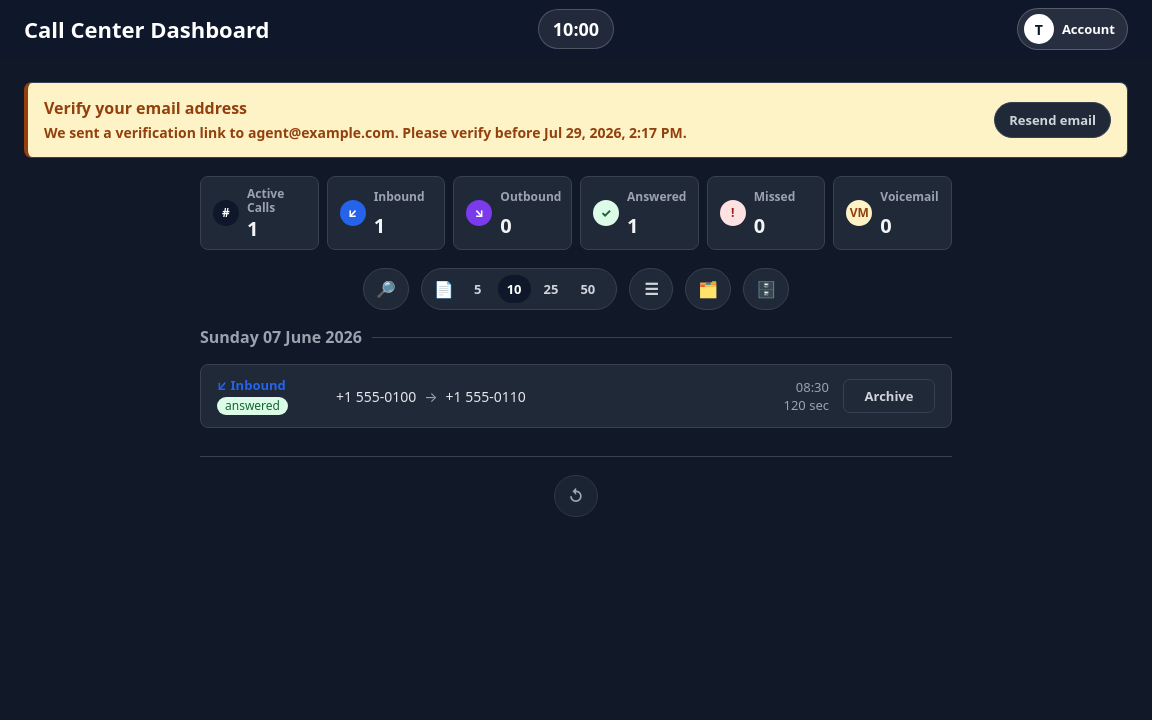
Test: App auth gate › logs out from the account drawer
Expected: the text "+1 555-0100" is shown, x1=336 y1=387 x2=416 y2=406
Click the button with aria-label "Open account settings": (1072, 29) x1=1017 y1=8 x2=1128 y2=50
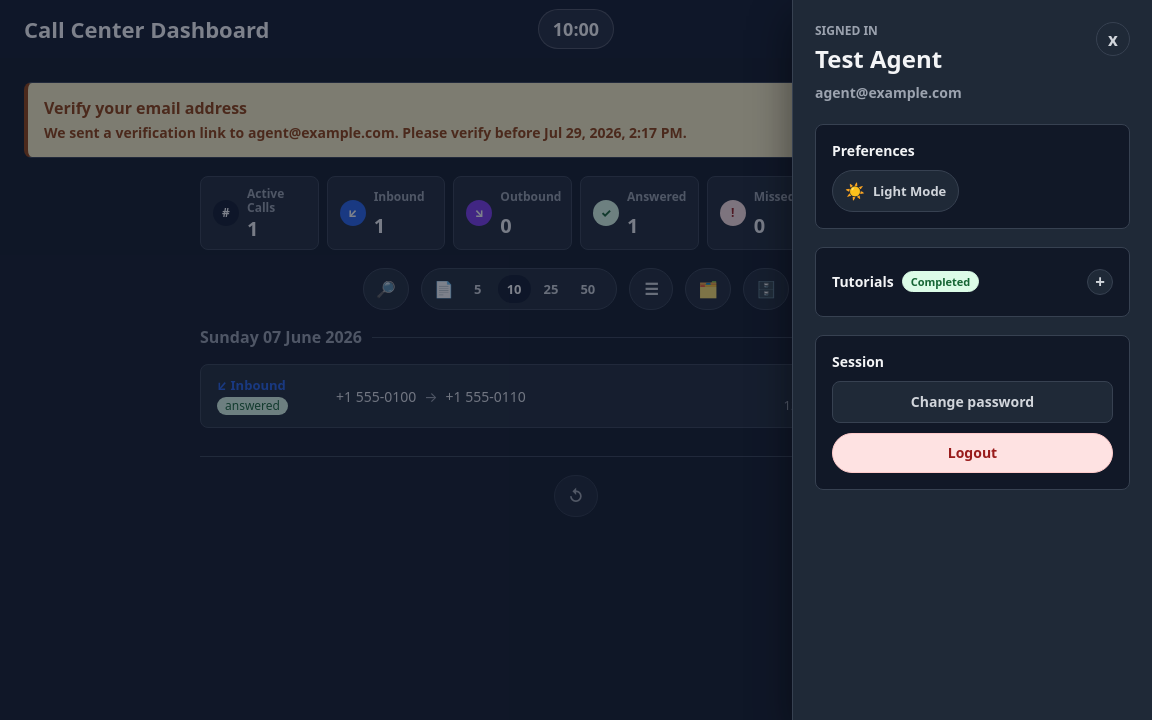
Click the button "Logout": (972, 453) x1=832 y1=433 x2=1113 y2=473
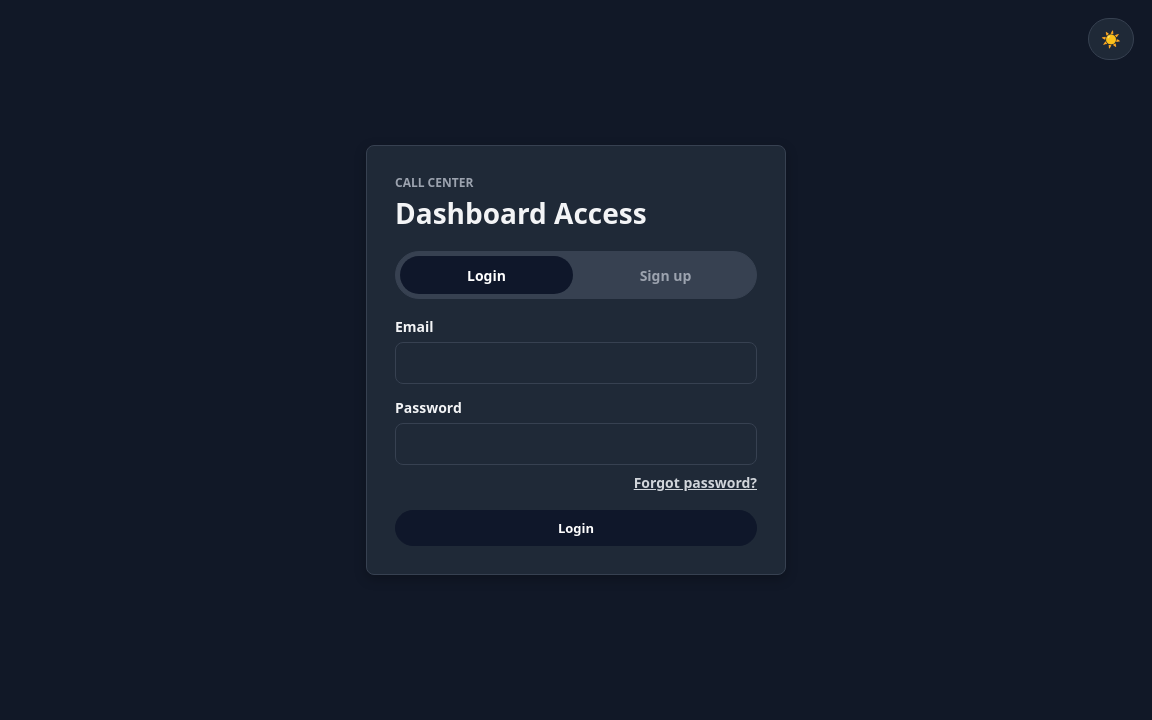
Expected: the heading "Dashboard Access" is shown, x1=395 y1=194 x2=647 y2=232
